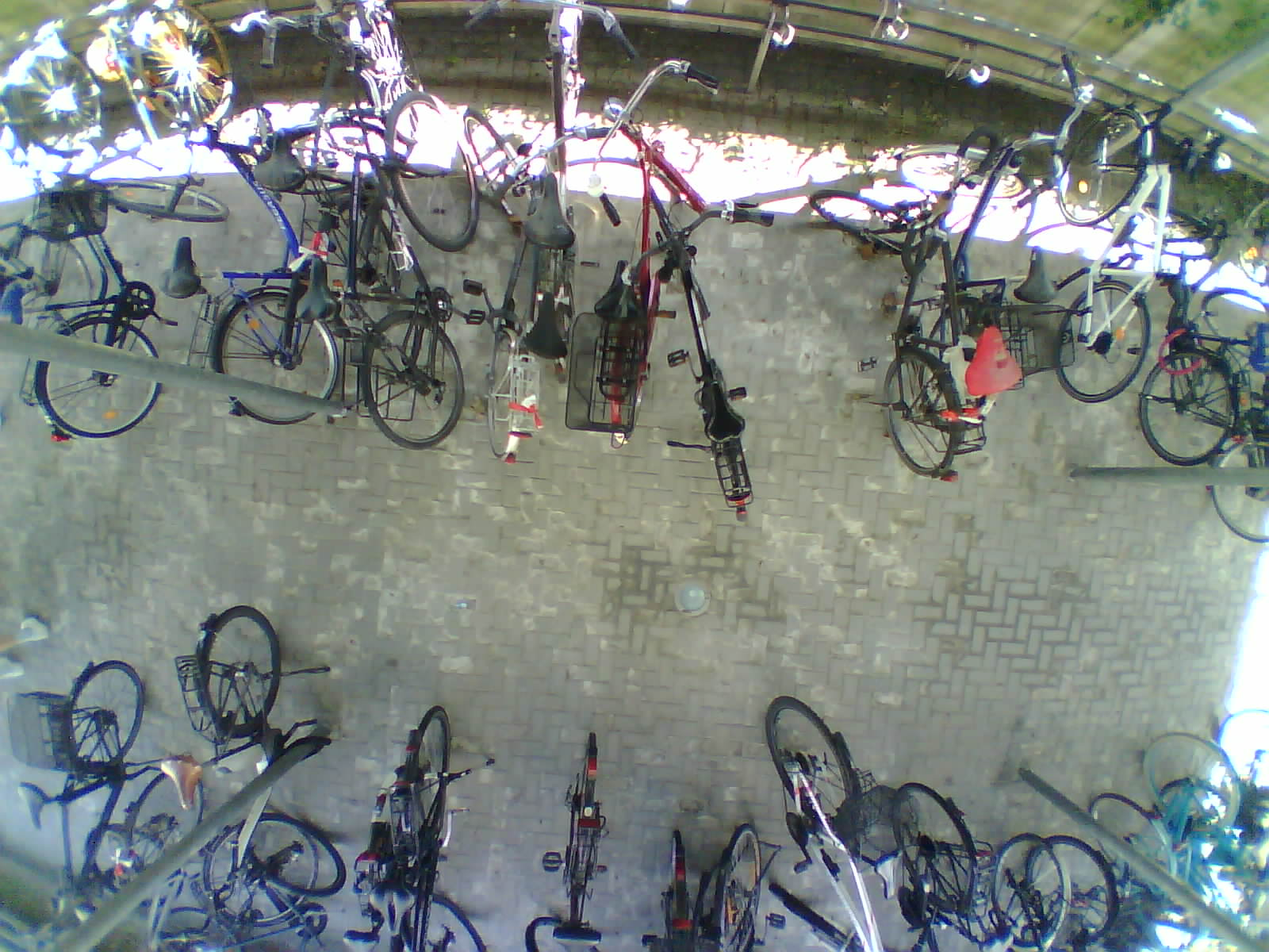bicylce: (13, 148, 226, 445), (807, 179, 989, 487), (196, 108, 364, 428), (590, 58, 720, 443), (183, 604, 345, 898), (359, 88, 486, 448), (633, 184, 767, 516), (290, 26, 418, 344), (895, 134, 1029, 416), (757, 689, 900, 952), (1054, 93, 1156, 397), (458, 103, 545, 453), (378, 690, 482, 952), (60, 659, 147, 918), (528, 1, 577, 382)
saddle: (963, 319, 1028, 400), (520, 171, 580, 253), (593, 255, 652, 329), (247, 127, 311, 195), (523, 284, 572, 366), (287, 253, 342, 322), (154, 233, 208, 302), (1009, 239, 1063, 306), (370, 881, 418, 939), (705, 382, 745, 449), (162, 750, 206, 810), (871, 848, 911, 903), (13, 780, 54, 831), (1164, 275, 1198, 323), (549, 924, 602, 952), (1248, 319, 1269, 375), (338, 929, 382, 952)
